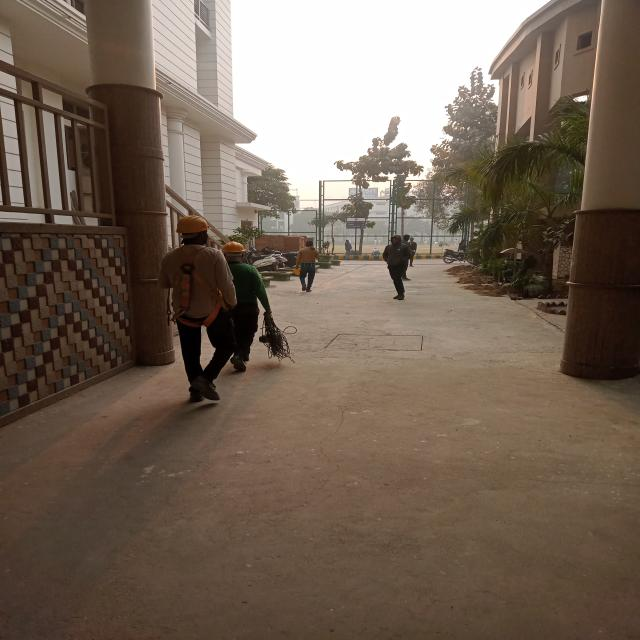no jacket: (166, 216, 229, 403), (223, 239, 269, 375)
unsafe: (381, 235, 409, 302), (296, 240, 316, 295), (343, 240, 352, 262)
